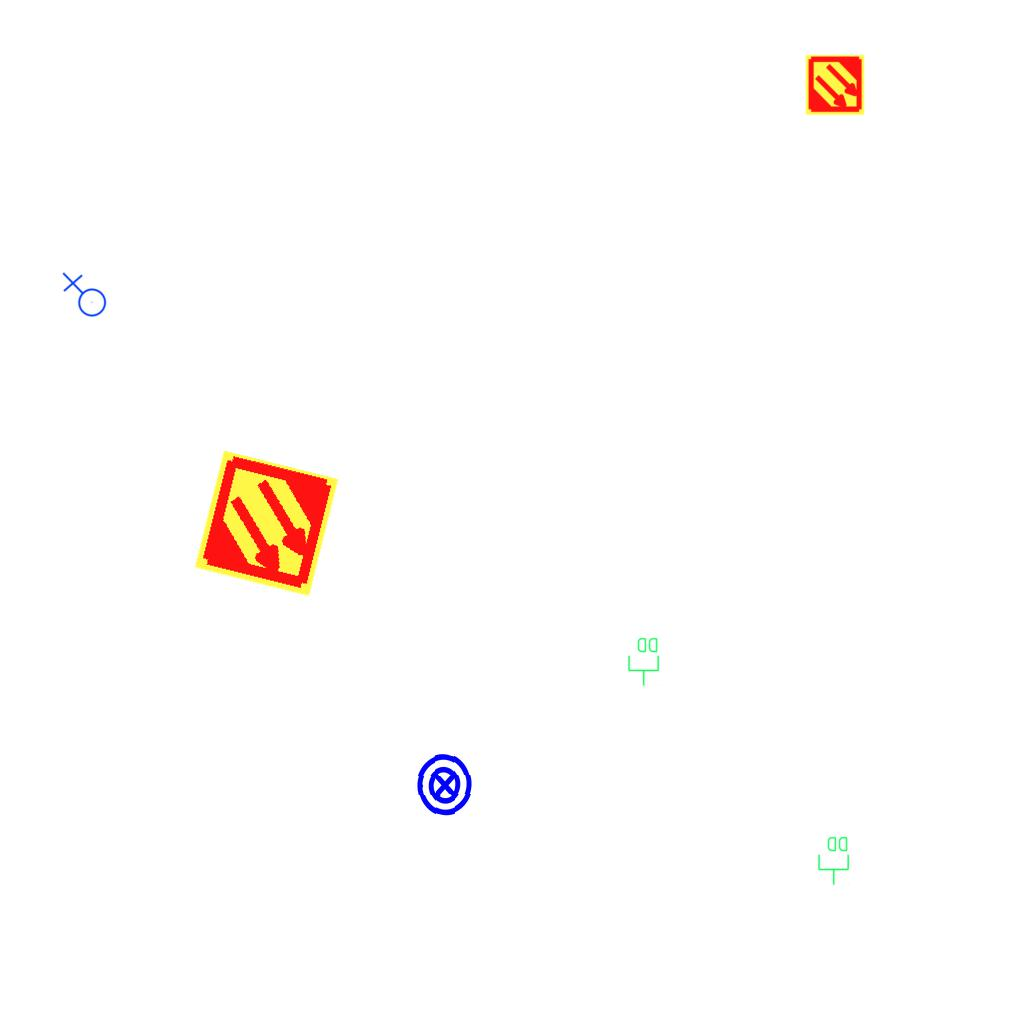ASR_Ansaugrauchmelder: (190, 447, 343, 600), (804, 54, 866, 116)
Datenanschluss_zweifach: (817, 835, 851, 886), (627, 636, 661, 687)
Elektroanschluss_allgemein_230V_Geraeteanschlussdose_230V: (60, 272, 107, 321)
Taster_beleuchtet: (410, 750, 480, 820)
